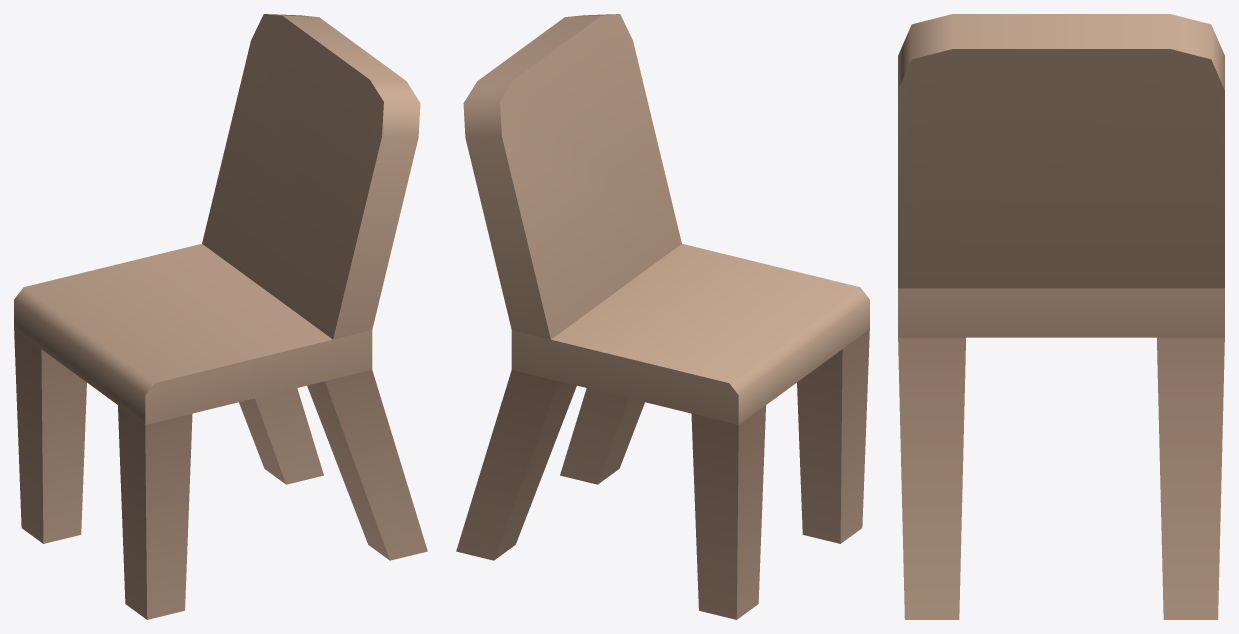
File: wooden-chair-slant-close.glb
3 renders of one model, left to right at view 1: azimuth 30°, elevation 25°; view 2: azimuth 150°, elevation 25°; view 3: azimuth 270°, elevation 25°, orthographic. The views are drawn at different scales.
Parts seen in each view (by area): view 1: wooden-chair-slant-close; view 2: wooden-chair-slant-close; view 3: wooden-chair-slant-close.
Boxes of the visible parts, x1,y1,x2,y2 form: wooden-chair-slant-close: (14,14,427,619); wooden-chair-slant-close: (456,14,869,619); wooden-chair-slant-close: (898,14,1224,619).
Size of the model in its own units: 0.4525 by 0.7077 by 0.36.
